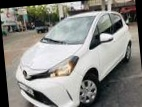car: (10, 6, 141, 107)
